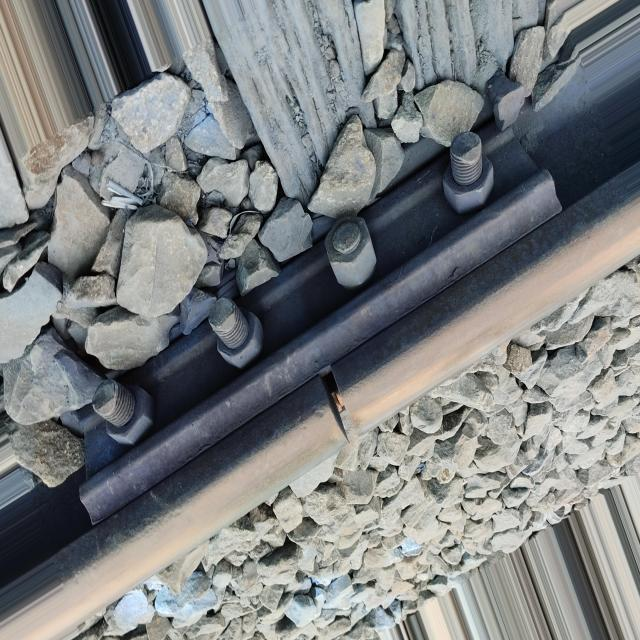Good Joint: (79, 117, 566, 523)
